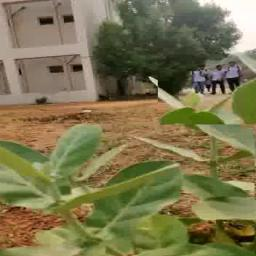Calotropis: (0, 124, 255, 255), (158, 72, 255, 136)
